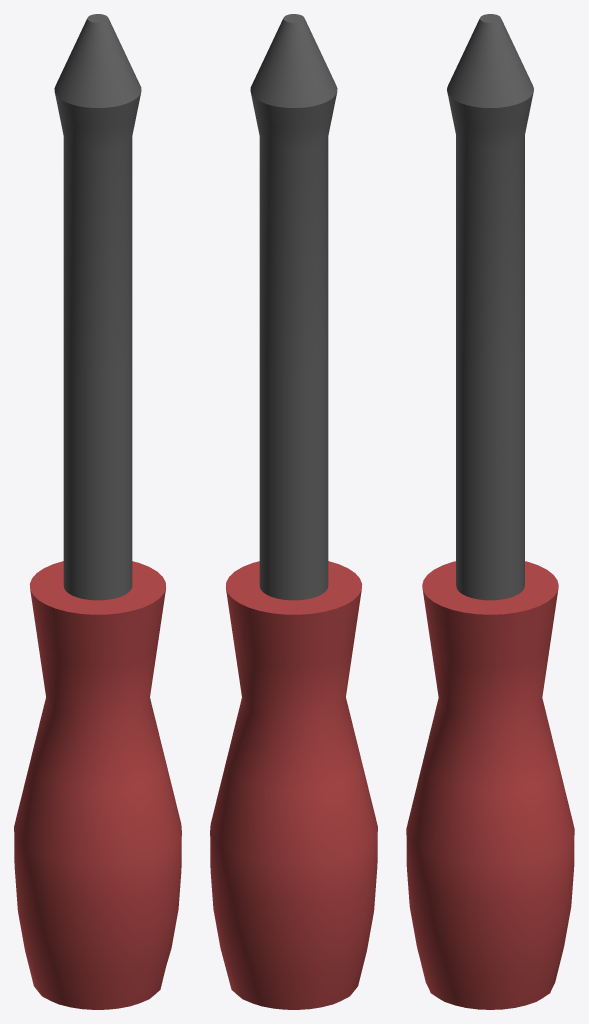
Rendered from HenryScrewDriver.fbx.
3 views of the same model, side by side, from view 1: azimuth 30°, elevation 25°; view 2: azimuth 150°, elevation 25°; view 3: azimuth 270°, elevation 25° (orthographic).
Parts seen in each view (by area): view 1: ScrewDriver; view 2: ScrewDriver; view 3: ScrewDriver.
Part boxes in pixels (x1,y1,x2,y2): ScrewDriver: (14, 14, 181, 1009); ScrewDriver: (210, 14, 377, 1009); ScrewDriver: (406, 14, 574, 1009).
Bounding box in the file's own units: 0.4093 × 0.4093 × 2.6.
